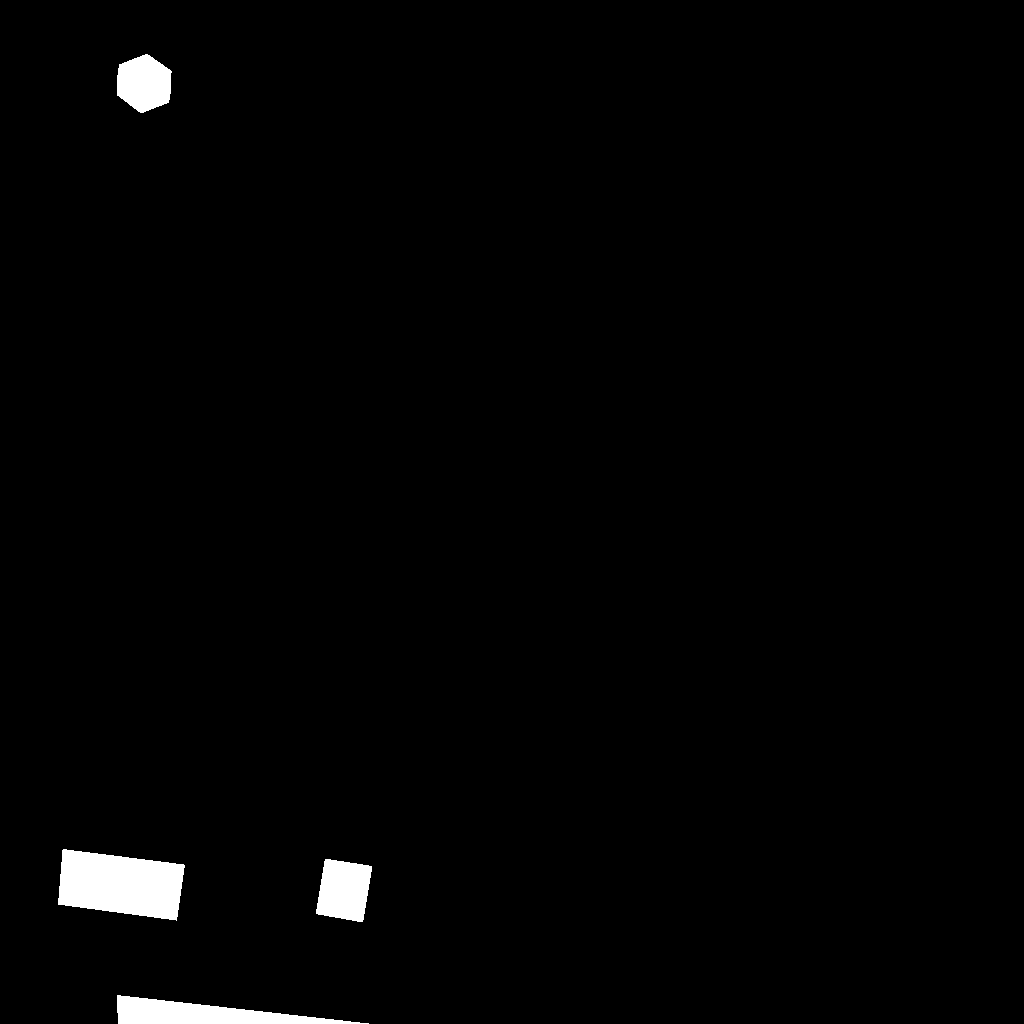building: (58, 849, 186, 921), (117, 995, 371, 1024), (316, 859, 373, 923), (117, 54, 172, 114)
